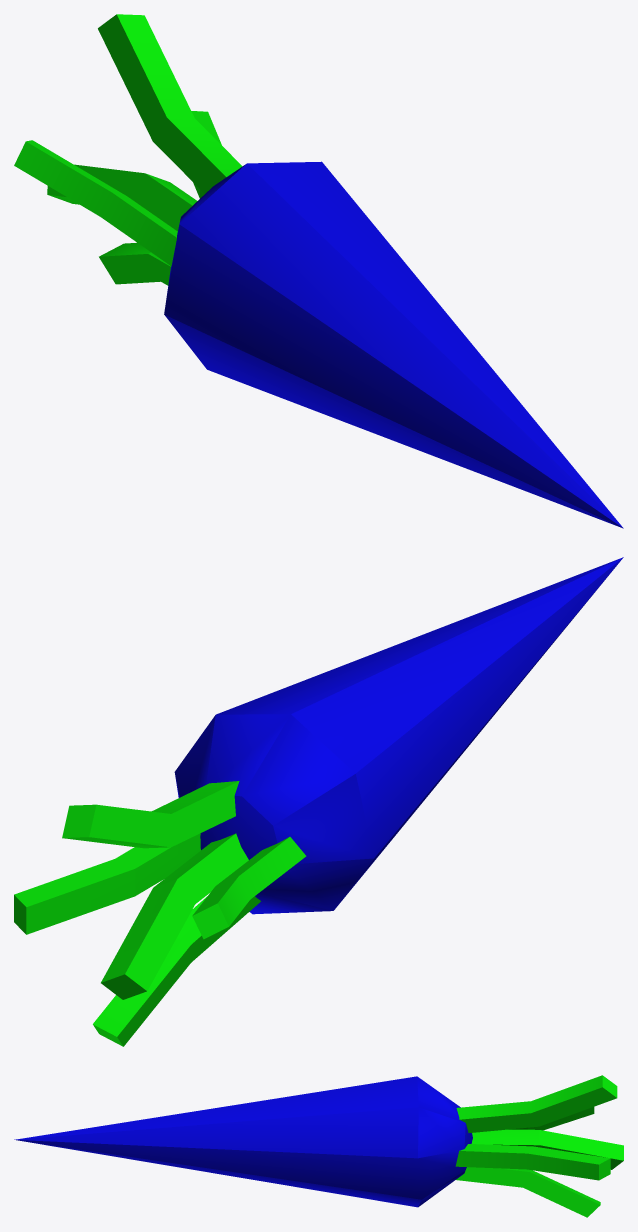
The model's file is karotte_low.fbx.
3 views of the same model, one above another, from view 1: azimuth 30°, elevation 25°; view 2: azimuth 150°, elevation 25°; view 3: azimuth 270°, elevation 25° (orthographic). The views are drawn at different scales.
Parts seen in each view (by area): view 1: polySurface12; view 2: polySurface12; view 3: polySurface12.
Boxes of the visible parts, bbox=[...] form: polySurface12: bbox=[14, 14, 623, 528]; polySurface12: bbox=[14, 557, 623, 1046]; polySurface12: bbox=[14, 1075, 623, 1217].
Bounding box in the file's own units: 0.1212 × 0.1428 × 0.5498.
